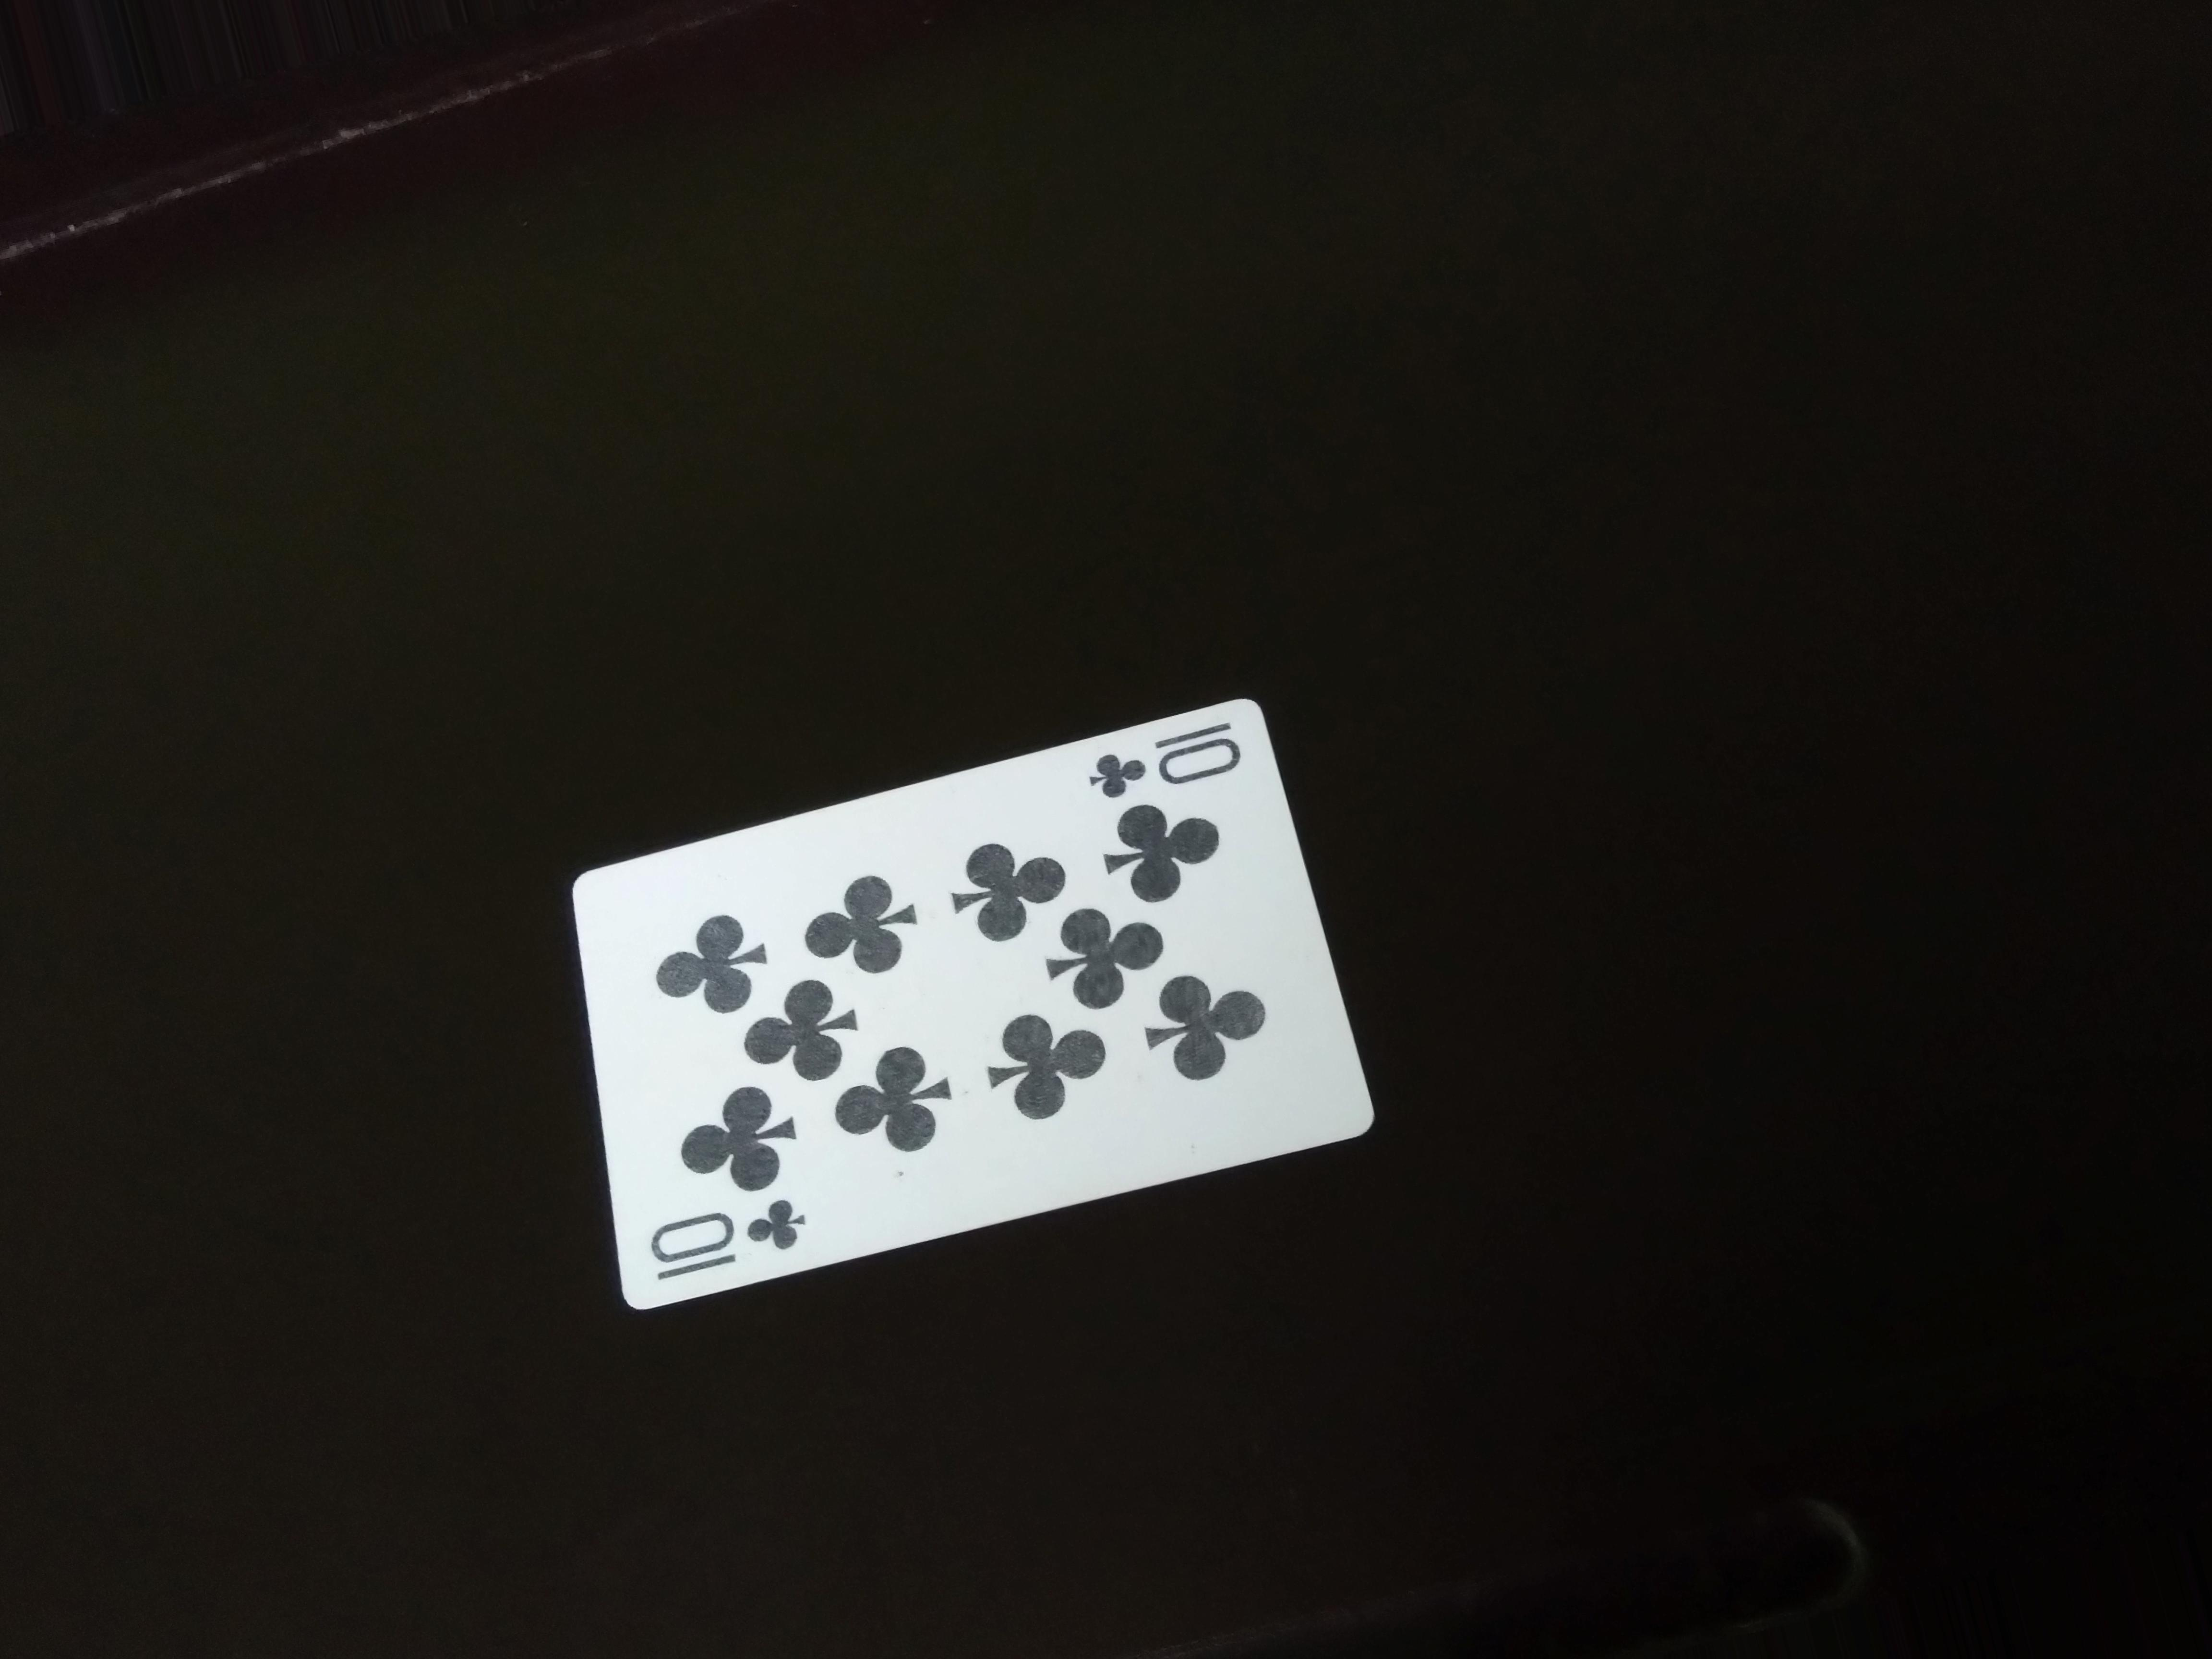10C: (631, 1199, 824, 1272)
